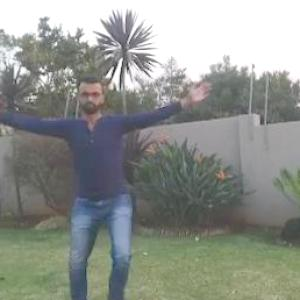takeoff: (1, 72, 204, 299)
